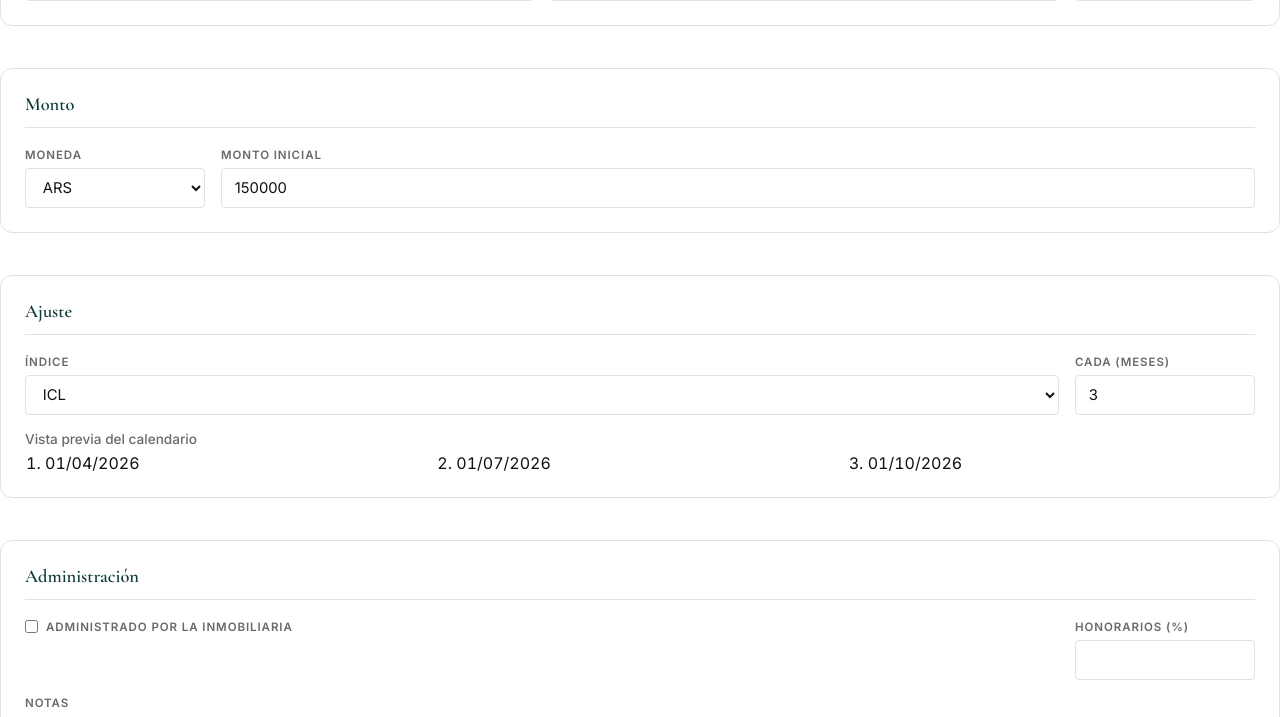
Test: la vista previa del calendario sigue a inicio, fin y frecuencia
(page scrolled)
Expected: the list item "01/04/2026" is shown, [45, 453, 140, 473]
Expected: the list item "01/10/2026" is shown, [868, 453, 962, 473]
Replace the text in the number field labelled "Cada (meses)" with "6": (1165, 395) [1075, 375, 1255, 415]
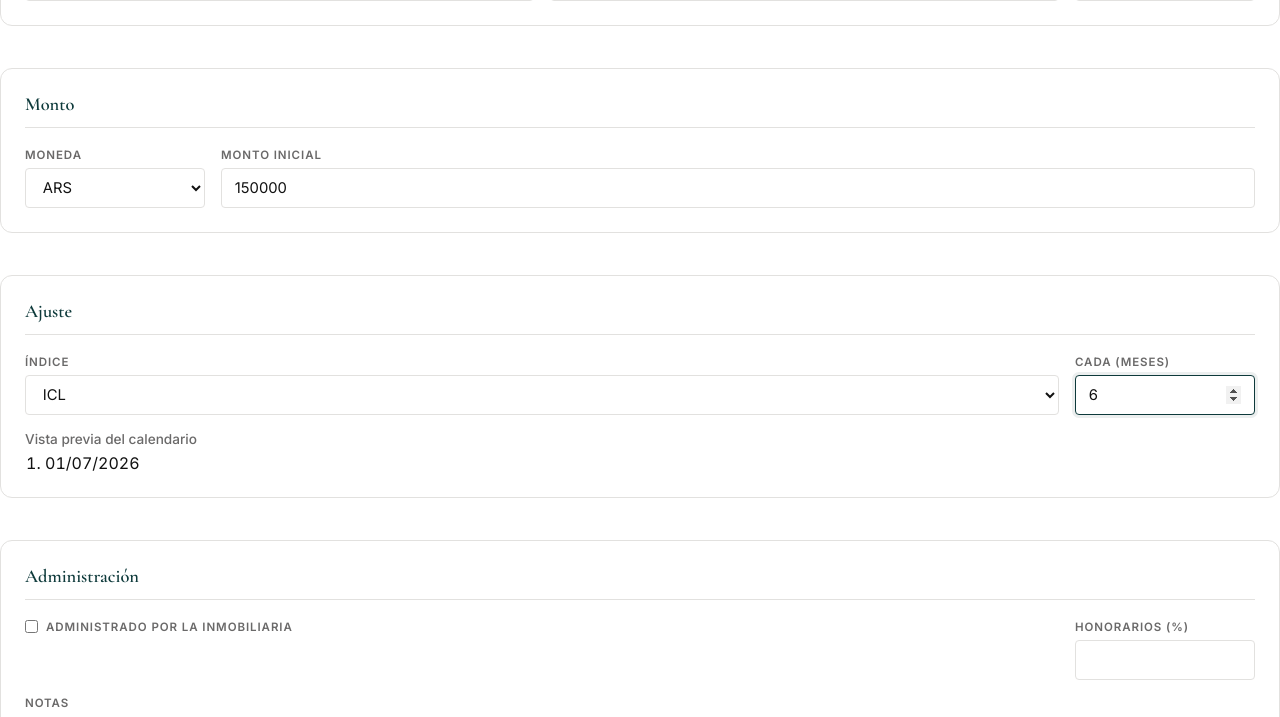
Expected: the list item "01/04/2026" is not shown
Now the list item "01/07/2026" is shown, box [45, 453, 140, 473]
